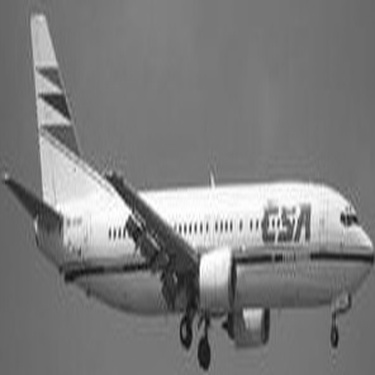airplane: (4, 2, 370, 369)
